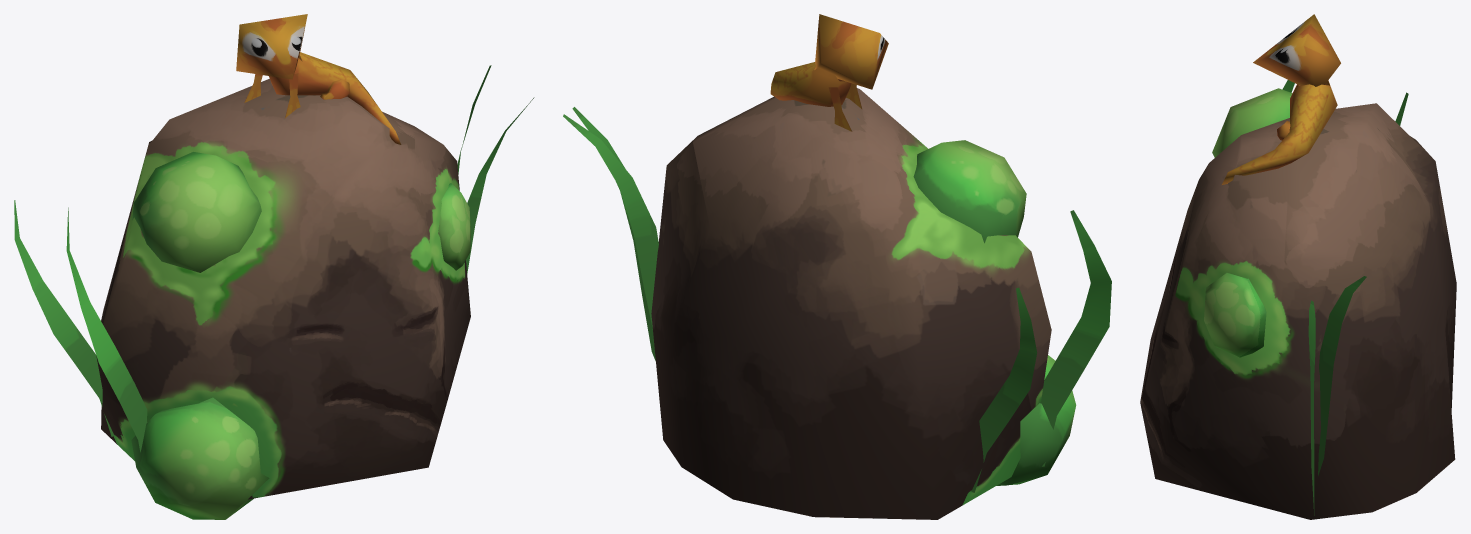
The model's file is WorriedWall.glb.
3 renders of one model, left to right at view 1: azimuth 30°, elevation 25°; view 2: azimuth 150°, elevation 25°; view 3: azimuth 270°, elevation 25°, orthographic. The views are drawn at different scales.
Parts seen in each view (by area): view 1: Stone, Moss2, Moss, head, Gras3, Gras4, body, Moss3, Gras; view 2: Stone, Moss, Gras3, head, Moss2, Gras2, Gras4, body, Gras; view 3: Stone, Moss3, body, head, Moss, Gras2, Gras.
Part boxes in pixels (x1=…): Stone: x1=96, y1=78, x2=470, y2=499; Moss2: x1=131, y1=397, x2=269, y2=519; Moss: x1=132, y1=152, x2=261, y2=272; head: x1=236, y1=14, x2=307, y2=79; Gras3: x1=66, y1=207, x2=147, y2=452; Gras4: x1=14, y1=200, x2=114, y2=436; body: x1=269, y1=52, x2=401, y2=144; Moss3: x1=438, y1=183, x2=470, y2=270; Gras: x1=466, y1=97, x2=534, y2=273; Stone: x1=651, y1=88, x2=1051, y2=519; Moss: x1=913, y1=140, x2=1026, y2=243; Gras3: x1=1040, y1=210, x2=1111, y2=466; head: x1=814, y1=14, x2=888, y2=89; Moss2: x1=996, y1=355, x2=1076, y2=485; Gras2: x1=563, y1=114, x2=658, y2=329; Gras4: x1=971, y1=287, x2=1037, y2=492; body: x1=770, y1=62, x2=851, y2=106; Gras: x1=572, y1=107, x2=655, y2=361; Stone: x1=1140, y1=103, x2=1456, y2=519; Moss3: x1=1204, y1=273, x2=1266, y2=357; body: x1=1222, y1=80, x2=1337, y2=184; head: x1=1253, y1=14, x2=1340, y2=86; Moss: x1=1212, y1=88, x2=1292, y2=157; Gras2: x1=1318, y1=276, x2=1366, y2=475; Gras: x1=1308, y1=300, x2=1315, y2=515.
Bounding box in the file's own units: 0.8257 × 0.7228 × 0.4674.
Materials: 1 (1 with a texture image).
